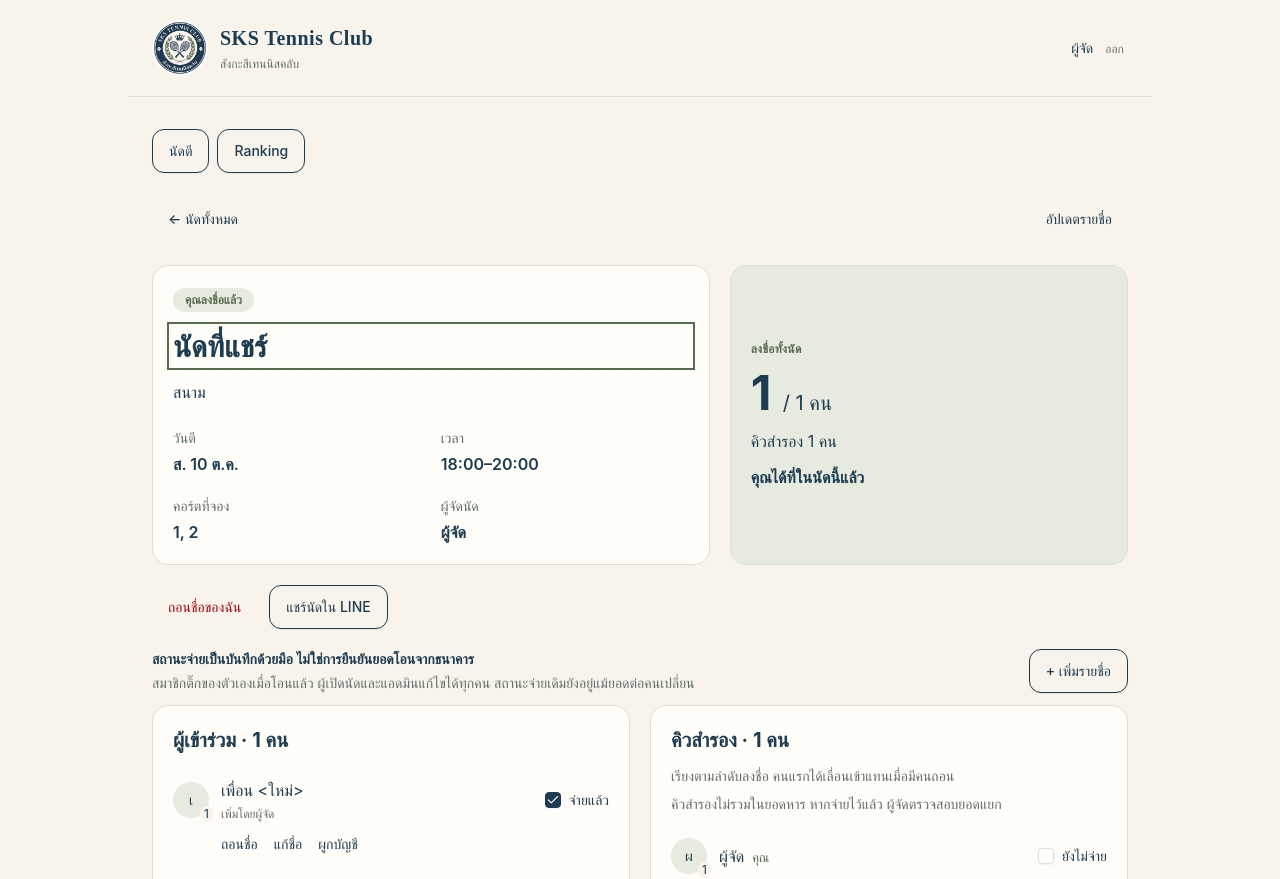
self withdrawal explains position 1 and preserves confirmation after failure
This screenshot has width=1280, height=879.
Click the button "ถอนชื่อของฉัน". click: point(205, 607)
box: x1=152 y1=585 x2=257 y2=629
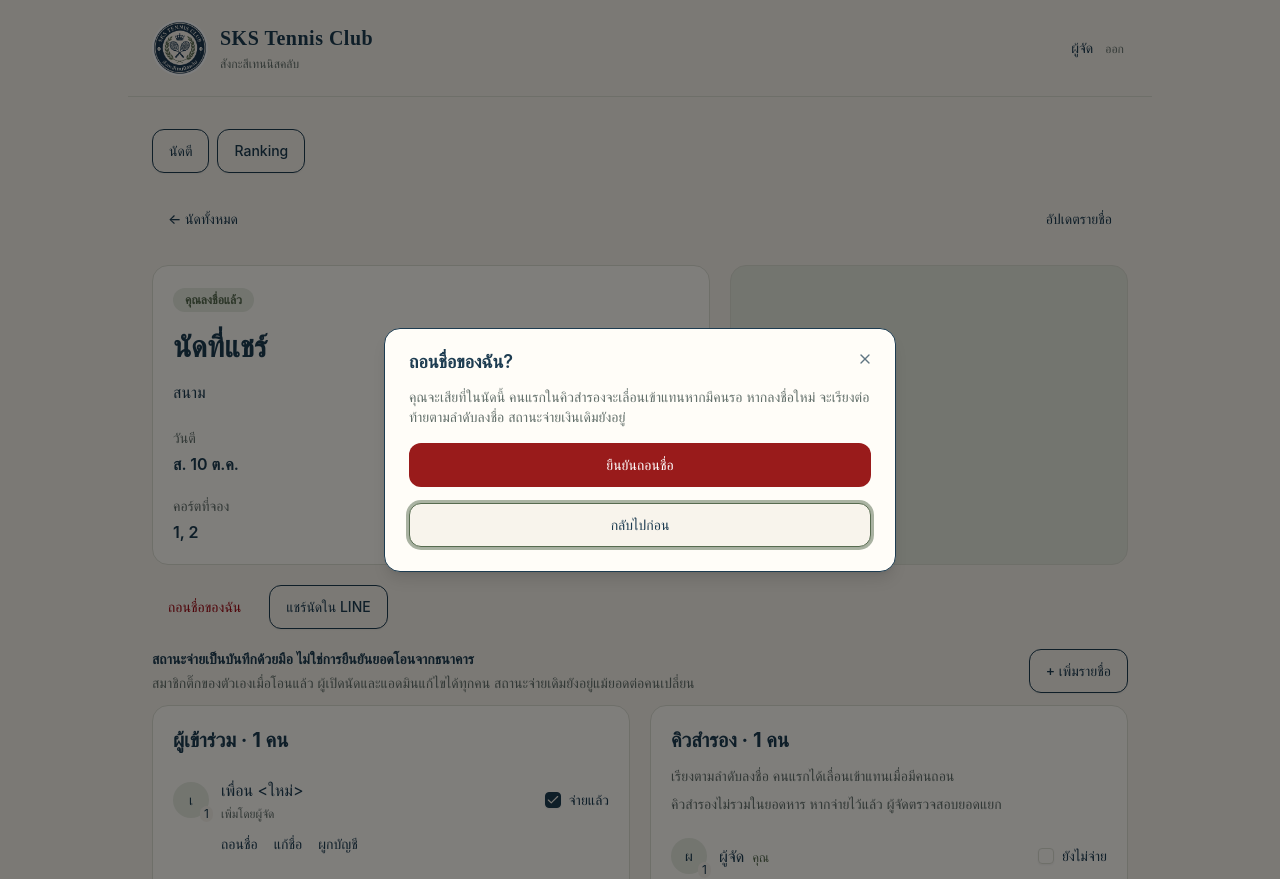
Result: the text "คุณจะเสียที่ในนัดนี้" is shown at x1=409 y1=388 x2=742 y2=405
Result: the text "หากลงชื่อใหม่ จะเรียงต่อท้ายตามลำดับลงชื่อ" is shown at x1=409 y1=388 x2=869 y2=425
Click the button "ยืนยันถอนชื่อ". click: point(640, 465)
box: x1=409 y1=443 x2=871 y2=487
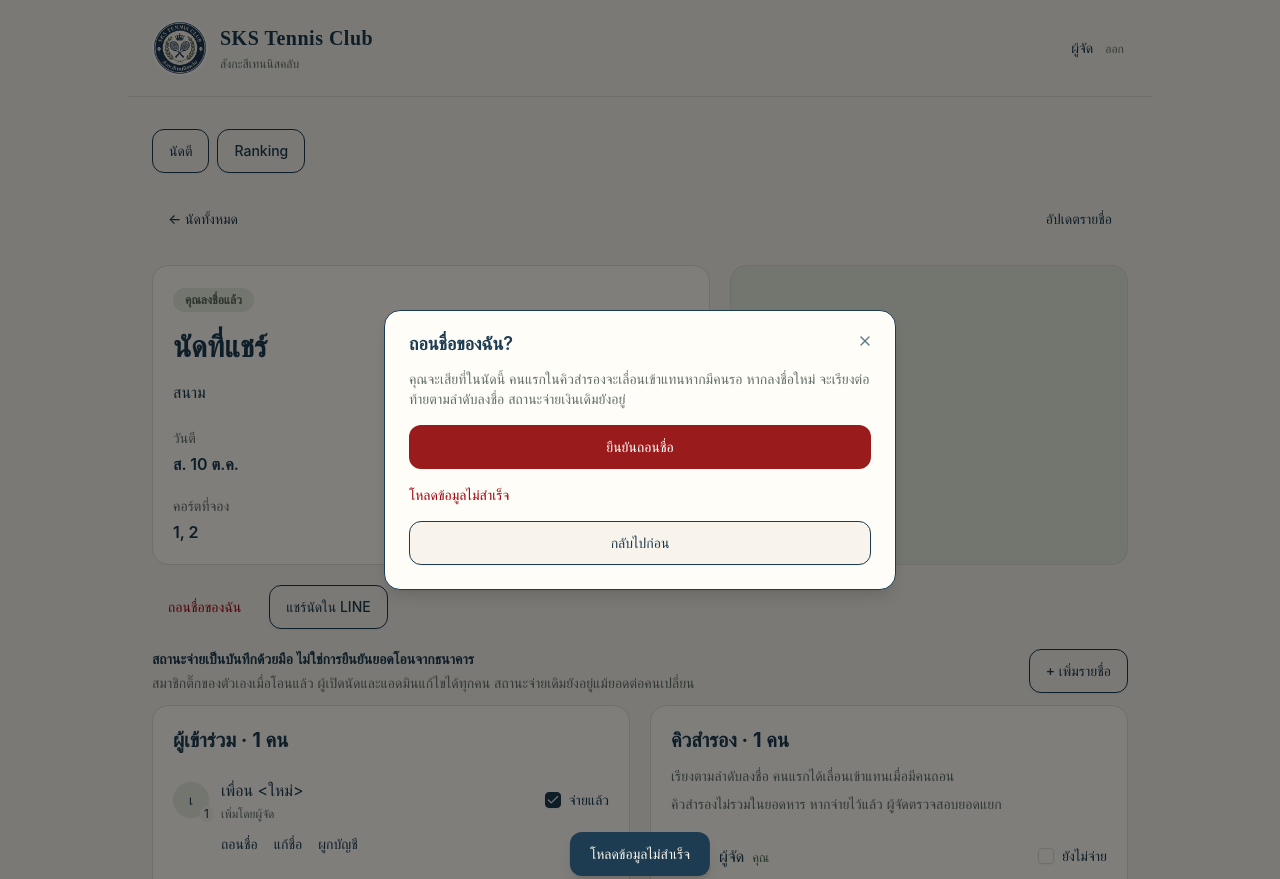
Expected: the text "คุณได้ที่ในนัดนี้แล้ว" is shown, x1=751 y1=467 x2=864 y2=487
Result: the message "โหลดข้อมูลไม่สำเร็จ" is shown at x1=409 y1=486 x2=509 y2=503
Click the button "ยืนยันถอนชื่อ". click: point(640, 447)
box: x1=409 y1=425 x2=871 y2=469
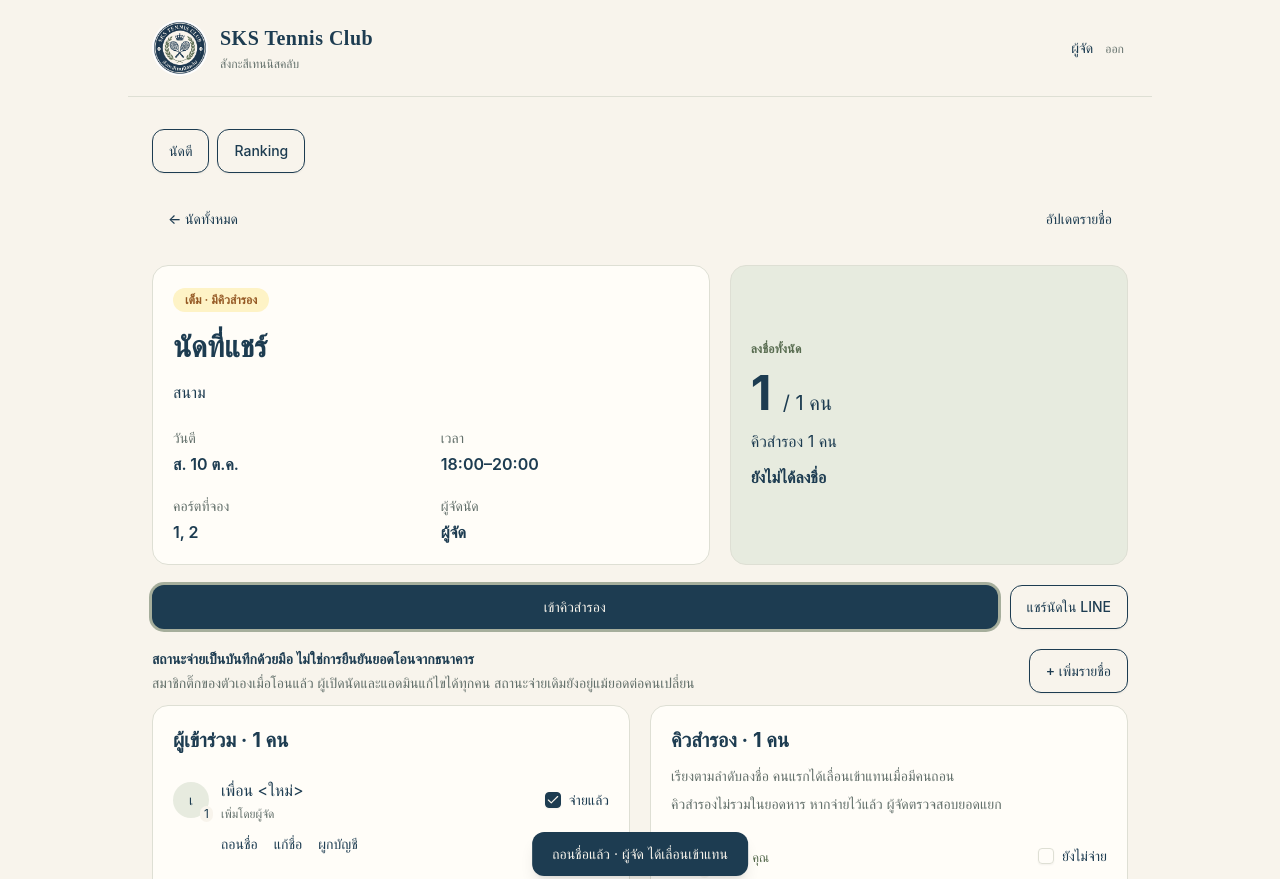
Result: the dialog is gone
